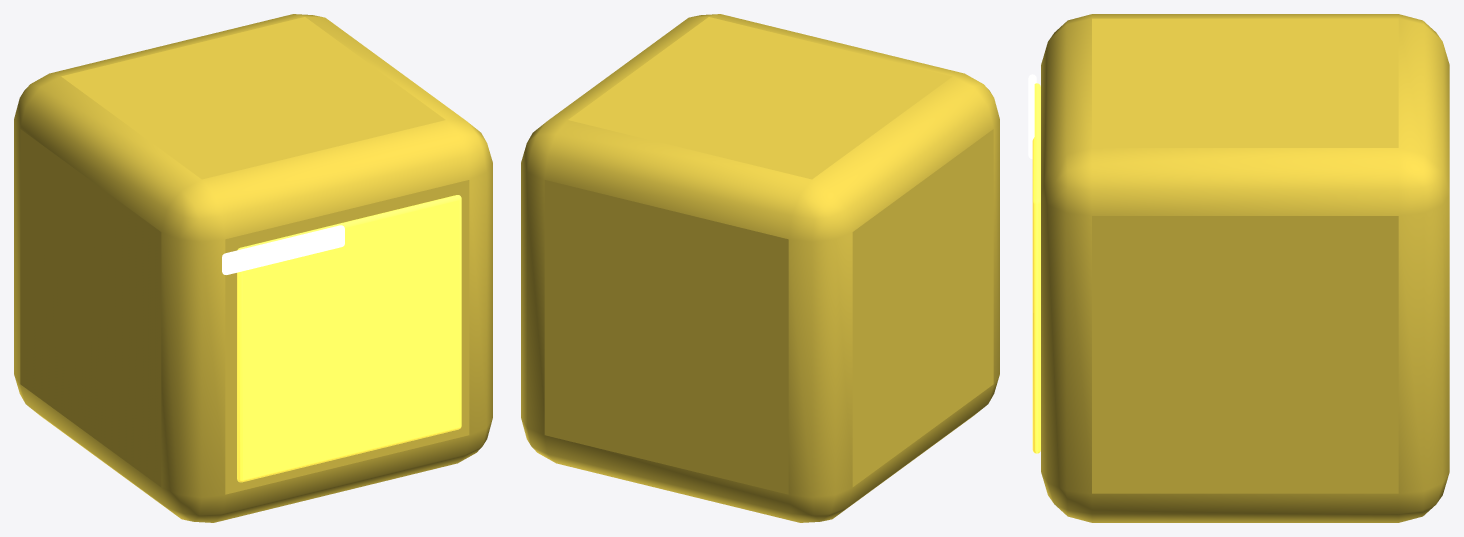
File: kostka_o.glb
3 views of the same model, side by side, from view 1: azimuth 30°, elevation 25°; view 2: azimuth 150°, elevation 25°; view 3: azimuth 270°, elevation 25° (orthographic). The views are drawn at different scales.
Parts seen in each view (by area): view 1: kostka_o_m, kostka_o_lesk, kostka_o_hrana; view 2: kostka_o_m; view 3: kostka_o_m, kostka_o_lesk, kostka_o_hrana.
Part boxes in pixels (x1=…): kostka_o_m: x1=14, y1=14, x2=492, y2=522; kostka_o_lesk: x1=237, y1=195, x2=461, y2=482; kostka_o_hrana: x1=222, y1=225, x2=344, y2=274; kostka_o_m: x1=521, y1=14, x2=999, y2=522; kostka_o_m: x1=1041, y1=14, x2=1449, y2=522; kostka_o_lesk: x1=1032, y1=83, x2=1040, y2=453; kostka_o_hrana: x1=1028, y1=74, x2=1036, y2=159.
Size of the model in its own units: 0.96 by 0.96 by 0.99.
